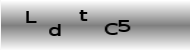5: (117, 19, 130, 32)
C: (104, 22, 118, 35)
L: (25, 10, 36, 23)
d: (47, 23, 61, 36)
t: (78, 9, 88, 21)
